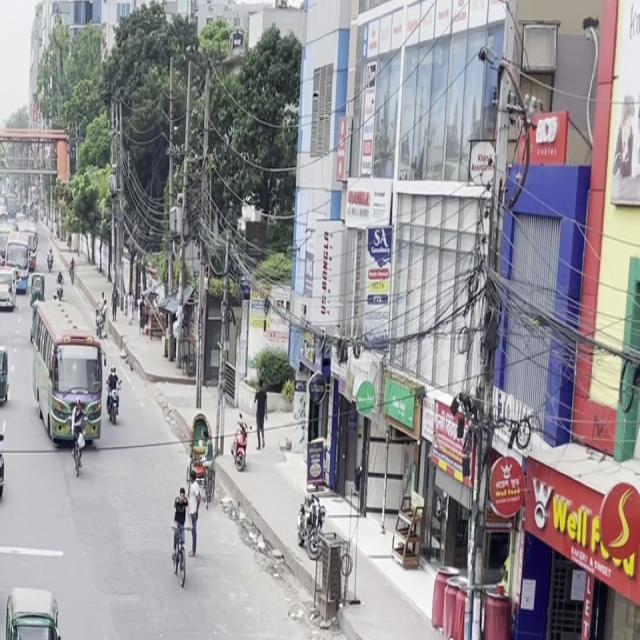bicycle: (160, 480, 197, 595)
bus: (30, 293, 107, 452)
car: (293, 632, 460, 640), (0, 398, 10, 506)
motorbike: (104, 361, 125, 428)
rickshaw: (0, 580, 72, 640), (0, 339, 13, 412), (0, 498, 5, 635)
